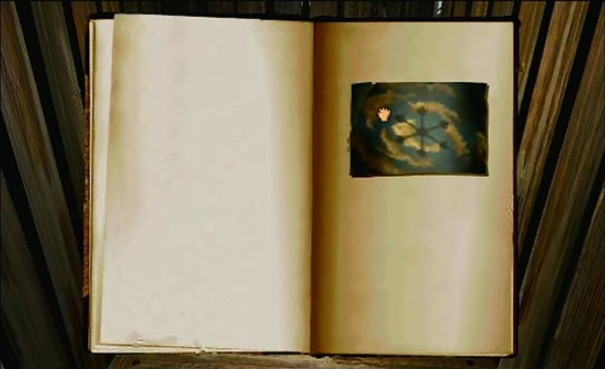Hold: (374, 106, 394, 124)
